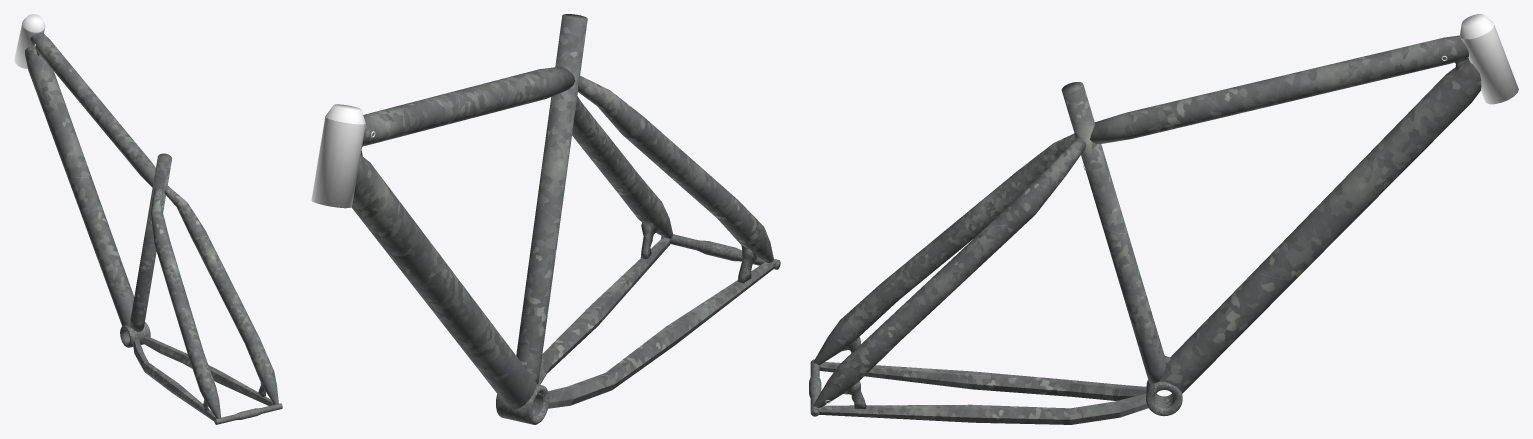
Rendered from Quadro padrao.glb.
3 views of the same model, side by side, from view 1: azimuth 30°, elevation 25°; view 2: azimuth 150°, elevation 25°; view 3: azimuth 270°, elevation 25° (orthographic). The views are drawn at different scales.
Parts seen in each view (by area): view 1: Quadro padrao; view 2: Quadro padrao; view 3: Quadro padrao.
Boxes of the visible parts, x1,y1,x2,y2 form: Quadro padrao: [14, 14, 282, 424]; Quadro padrao: [311, 14, 780, 424]; Quadro padrao: [809, 14, 1518, 424].
Size of the model in its own units: 0.1994 by 0.6671 by 1.09.
3 materials, 1 textured.
